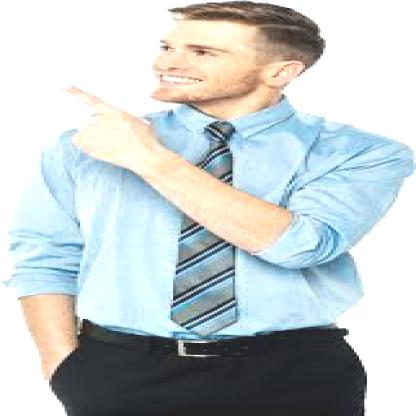Up: (38, 78, 158, 178)
